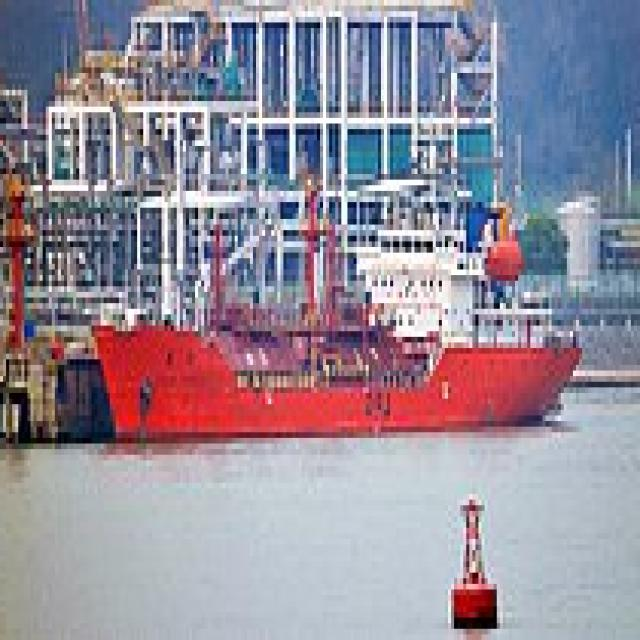Tanker: (91, 157, 588, 444)
